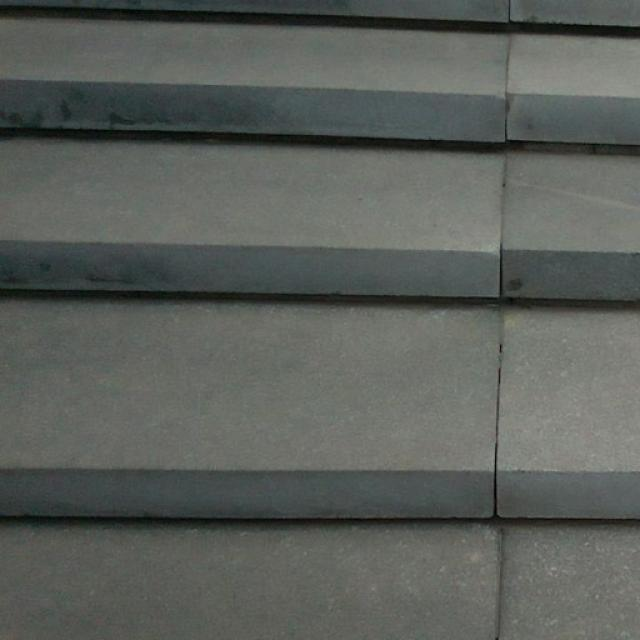stair: (0, 0, 621, 531)
